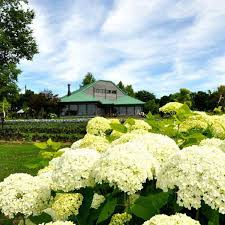flower: (2, 117, 225, 225)
house: (61, 76, 146, 120)
sky: (36, 3, 225, 93)
tree: (1, 2, 34, 109)
